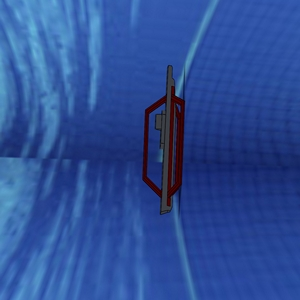submarine: (121, 43, 213, 224)
